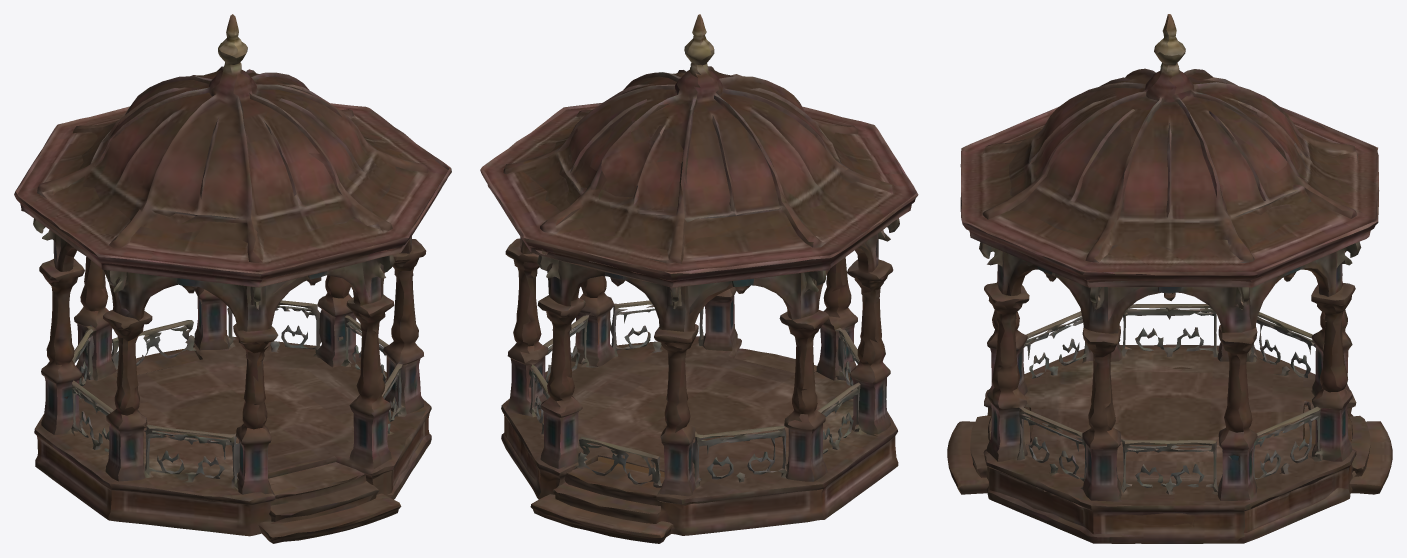
The model's file is bandstand.glb.
3 renders of one model, left to right at view 1: azimuth 30°, elevation 25°; view 2: azimuth 150°, elevation 25°; view 3: azimuth 270°, elevation 25°, orthographic. The views are drawn at different scales.
Parts seen in each view (by area): view 1: world; view 2: world; view 3: world.
Part boxes in pixels (bbox=[...]): world: bbox=[14, 14, 451, 543]; world: bbox=[480, 14, 918, 543]; world: bbox=[947, 14, 1392, 543].
Size of the model in its own units: 4.5 by 5.33 by 4.78.
1 material, 1 textured.
